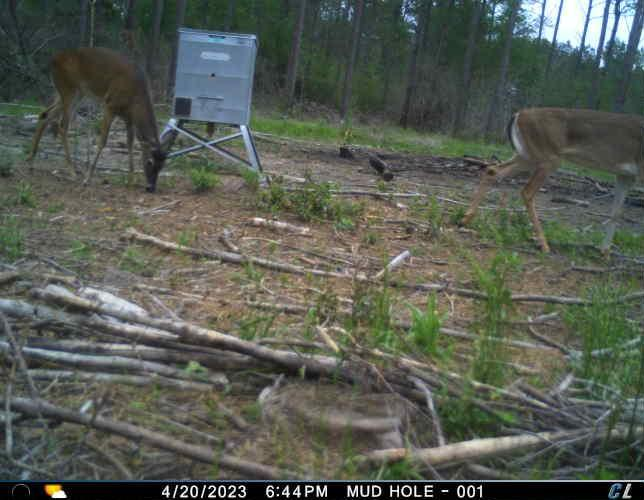Deer: (453, 101, 644, 269), (25, 44, 179, 198)
